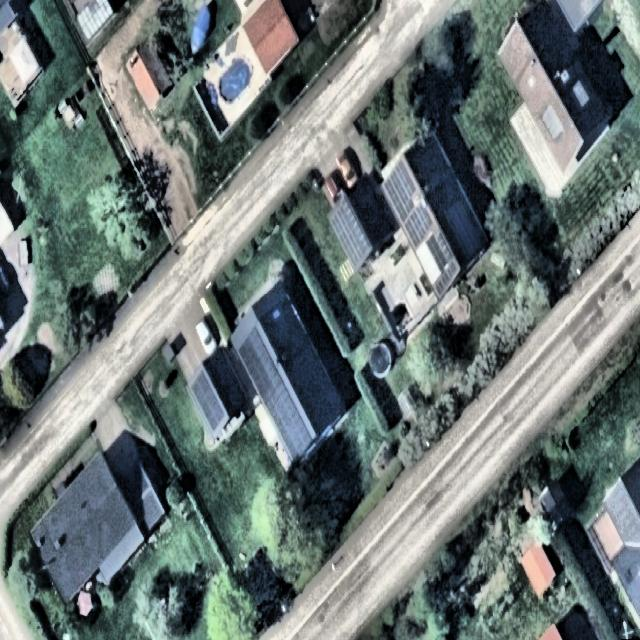roof_pv: (260, 375, 312, 462), (330, 188, 370, 268), (238, 325, 275, 391), (382, 156, 416, 216), (402, 205, 432, 247), (424, 228, 452, 268), (434, 256, 456, 294)
